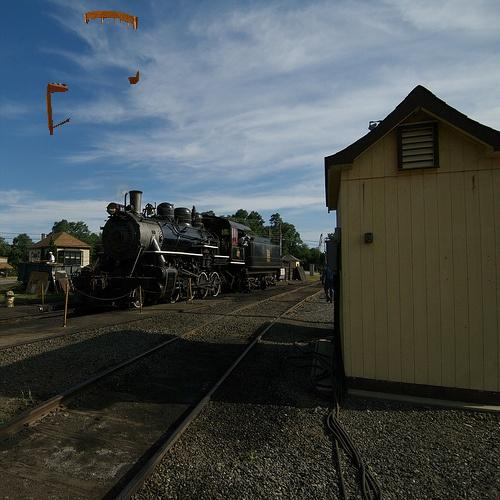tampered: (47, 12, 139, 135)
